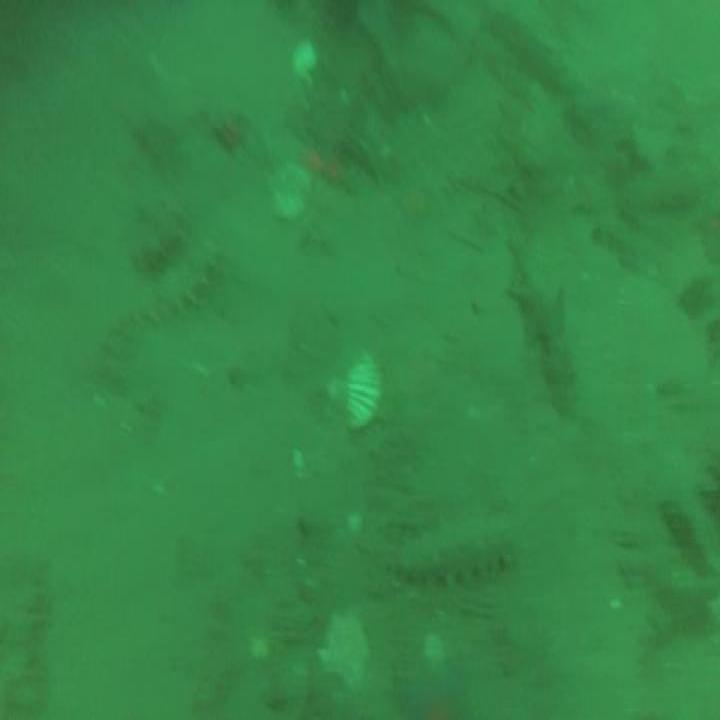holothurian: (112, 236, 221, 330), (396, 516, 518, 583)
scallop: (321, 348, 386, 436), (323, 613, 367, 690), (270, 160, 309, 222)
